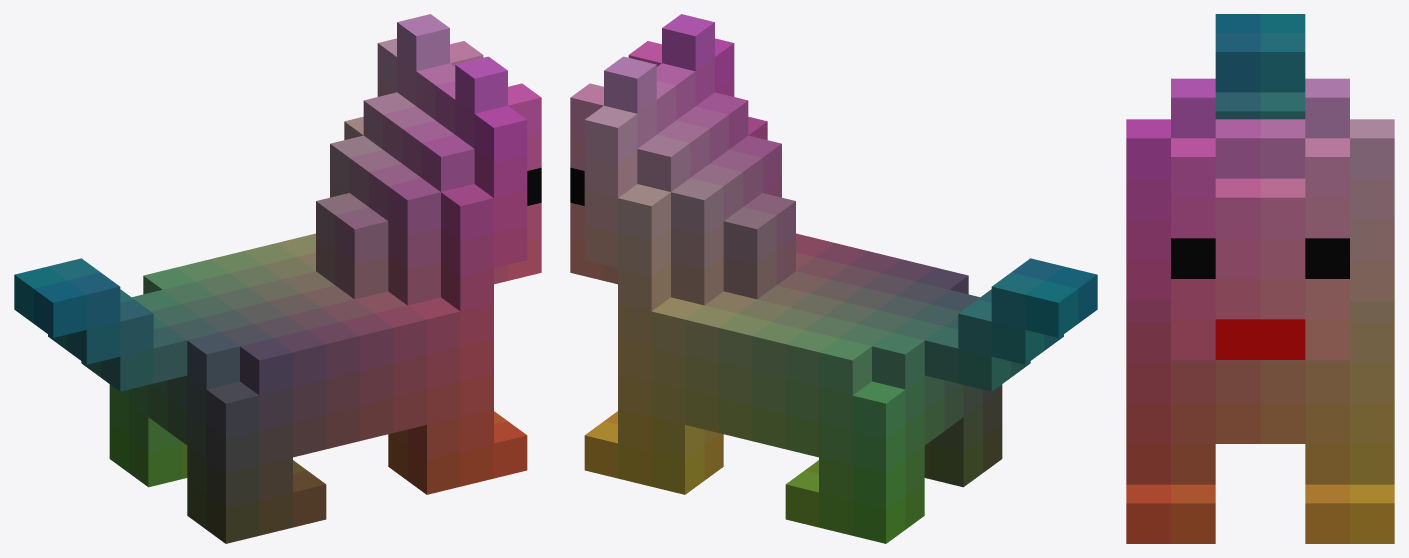
Rendered from kotek_redo.gltf.
3 renders of one model, left to right at view 1: azimuth 30°, elevation 25°; view 2: azimuth 150°, elevation 25°; view 3: azimuth 270°, elevation 25°, orthographic. The views are drawn at different scales.
Visible parts, largest first — view 1: Layer.1; view 2: Layer.1; view 3: Layer.1.
Boxes of the visible parts, x1,y1,x2,y2 form: Layer.1: (14,14,541,543); Layer.1: (570,14,1097,543); Layer.1: (1126,14,1394,543).
Size of the model in its own units: 14 by 11 by 6.
